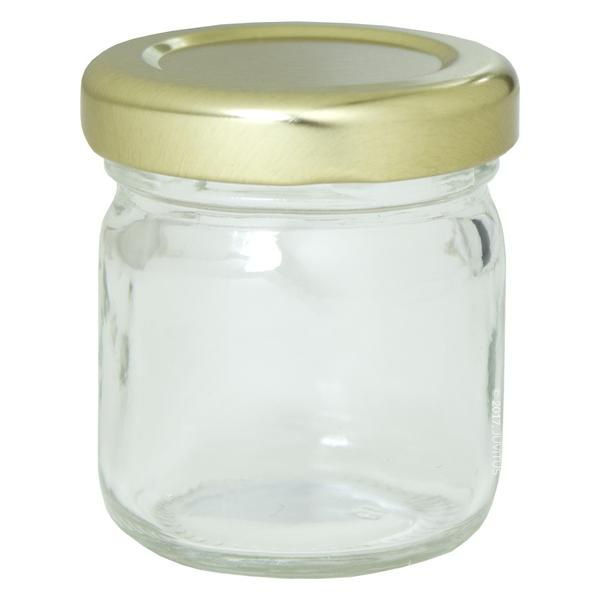Rec_Glass: (74, 6, 520, 580)
